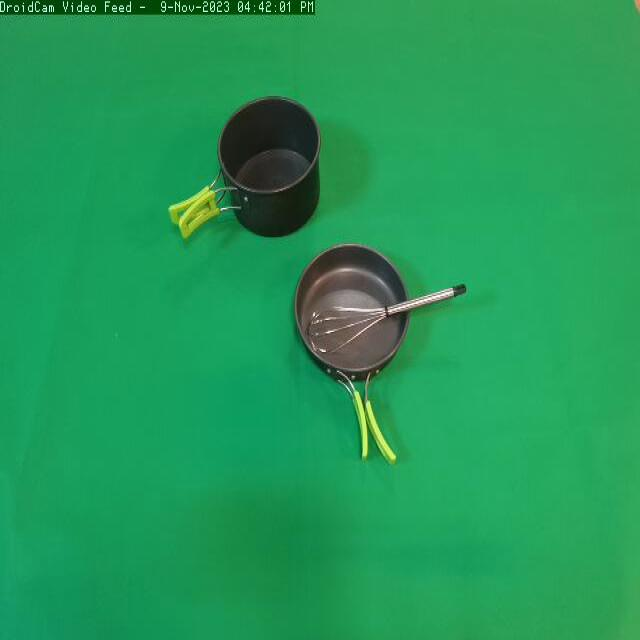pan: (293, 235, 414, 477)
pot: (166, 94, 342, 239)
whisk: (306, 278, 479, 365)
